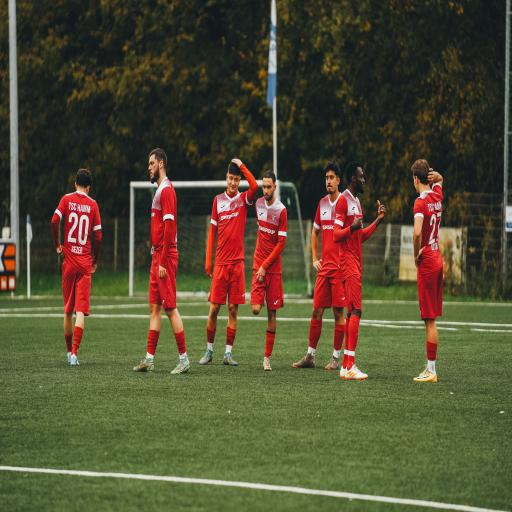shoe: (414, 365, 437, 381), (345, 365, 368, 379), (293, 353, 314, 368), (134, 358, 154, 372), (172, 358, 189, 373), (200, 349, 212, 364), (326, 357, 339, 369), (224, 353, 237, 365), (70, 354, 79, 365), (264, 357, 271, 370), (340, 366, 346, 378), (68, 352, 71, 362)
